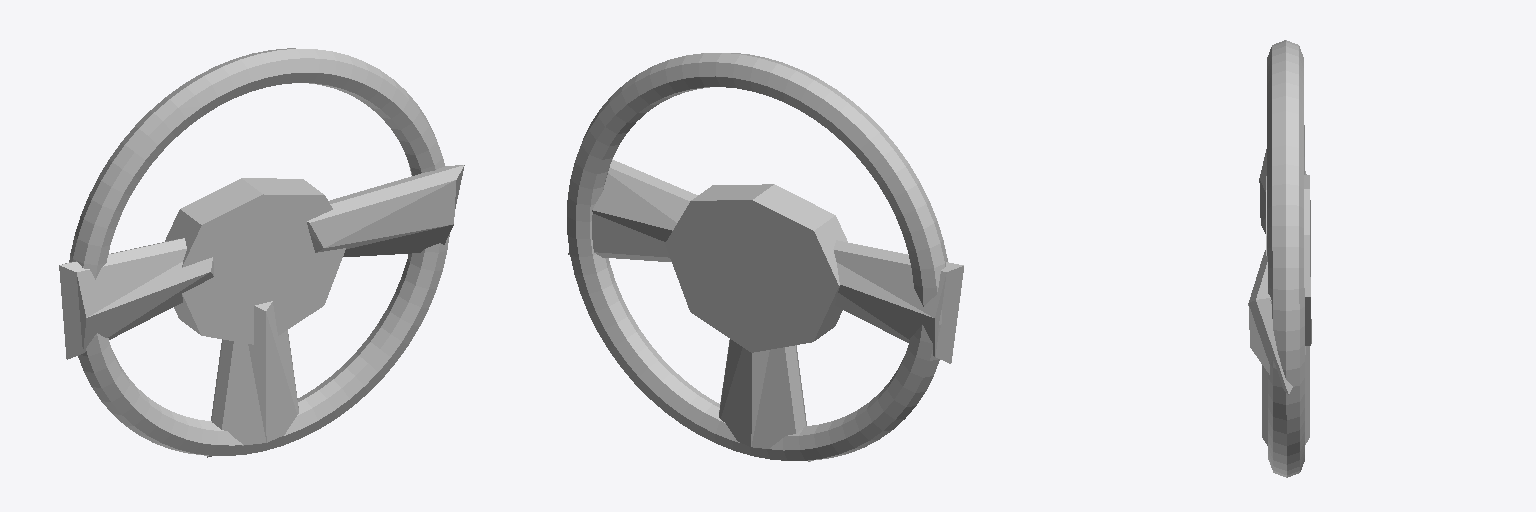
Rendered from steering wheel.obj.
The picture shows the model from 3 angles: view 1: azimuth 30°, elevation 25°; view 2: azimuth 150°, elevation 25°; view 3: azimuth 270°, elevation 25°; orthographic projection.
Visible parts, largest first — view 1: Circle, Circle.001, Plane.001, Plane.002, Plane; view 2: Circle, Circle.001, Plane.001, Plane, Plane.002; view 3: Circle, Plane.002, Circle.001, Plane.
Part boxes in pixels (x1,y1,x2,y2): Circle: (69,48,449,455); Circle.001: (165,178,345,344); Plane.001: (59,238,213,359); Plane.002: (307,165,464,256); Plane: (207,301,298,457); Circle: (567,53,947,460); Circle.001: (665,184,847,352); Plane.001: (833,240,963,363); Plane: (719,339,810,461); Plane.002: (568,159,697,261); Circle: (1267,40,1304,477); Plane.002: (1248,250,1292,394); Circle.001: (1266,175,1311,345); Plane: (1262,346,1309,445).
Size of the model in its own units: 0.2933 by 0.283 by 0.0408.